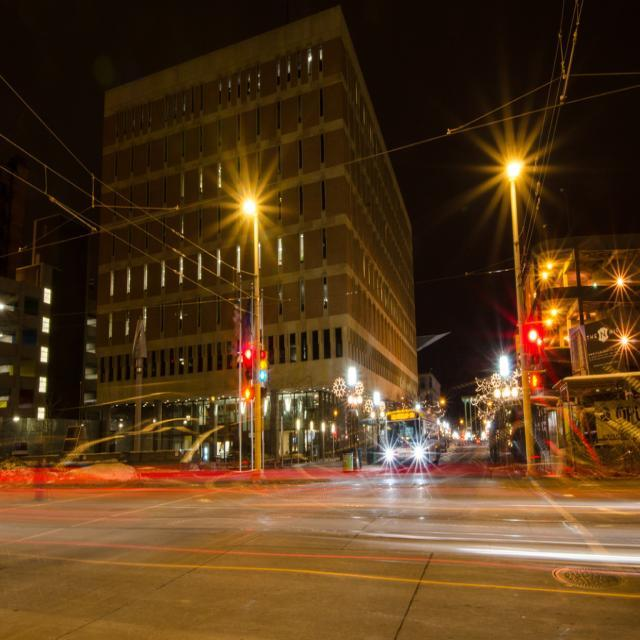traffic light: (527, 319, 540, 351), (244, 346, 253, 379), (258, 350, 267, 382)
